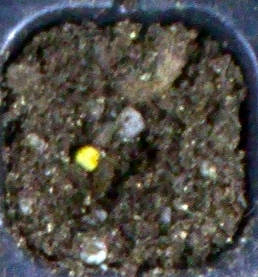chilli seed: (74, 144, 98, 171)
